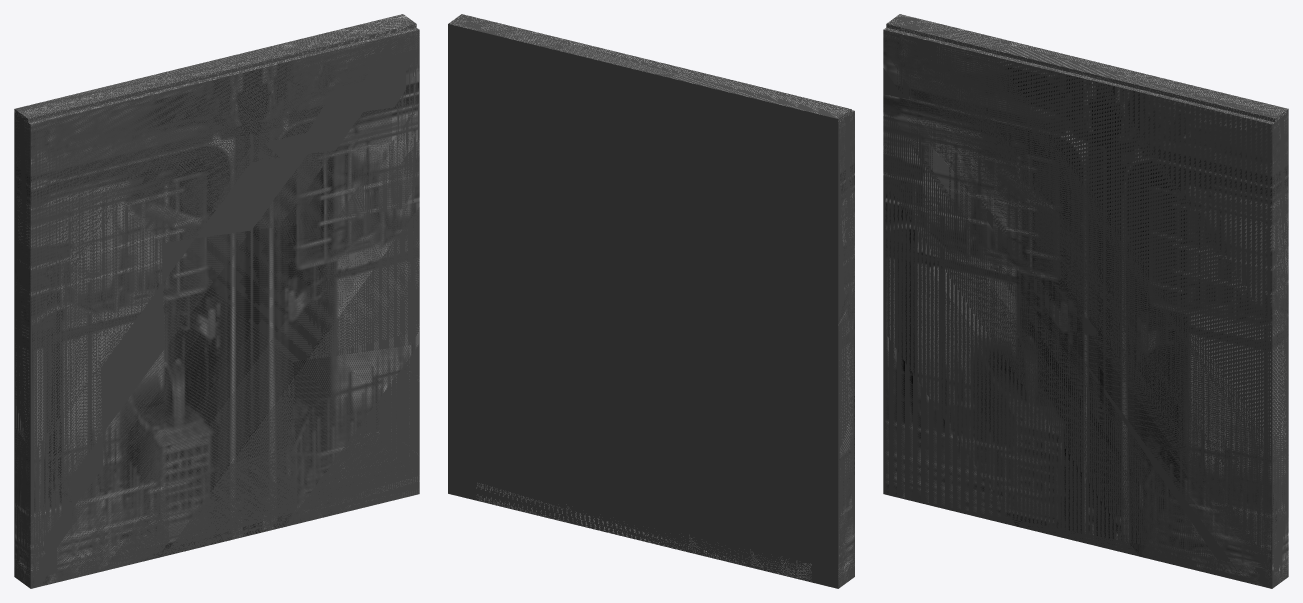
3 renders of one model, left to right at view 1: azimuth 30°, elevation 25°; view 2: azimuth 150°, elevation 25°; view 3: azimuth 330°, elevation 25°, orthographic.
Size of the model in its own units: 1.14 by 1.32 by 0.0835.
